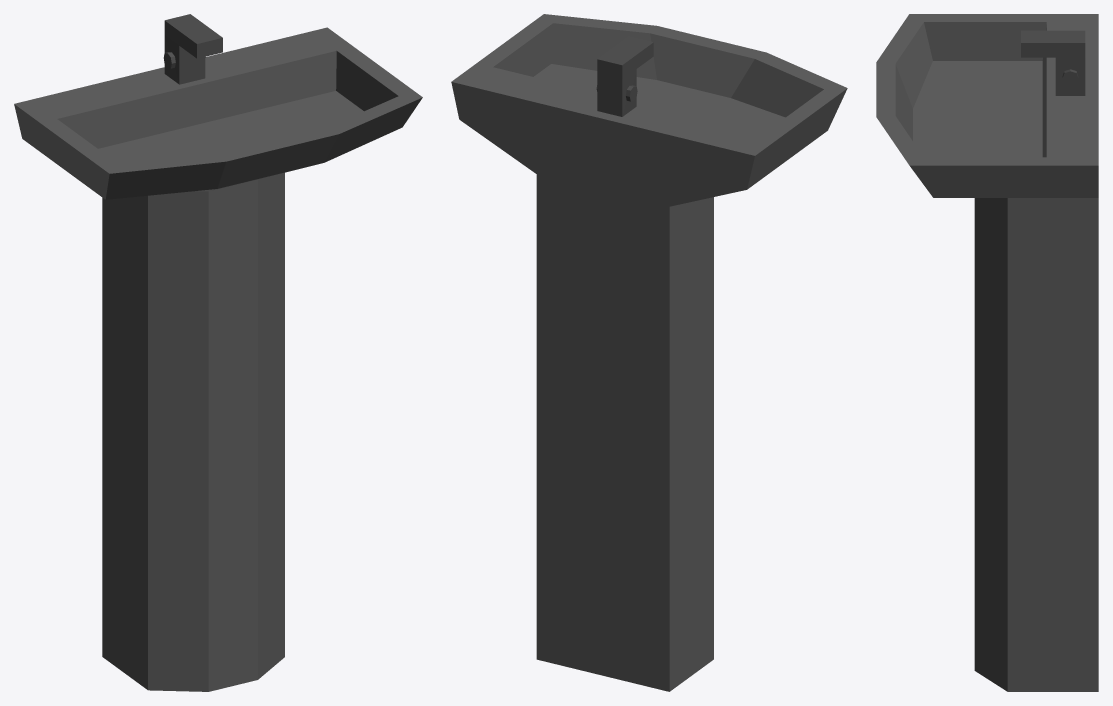
Rendered from Sink_01.fbx.
3 views of the same model, side by side, from view 1: azimuth 30°, elevation 25°; view 2: azimuth 150°, elevation 25°; view 3: azimuth 270°, elevation 25° (orthographic). The views are drawn at different scales.
Parts seen in each view (by area): view 1: Sink_01; view 2: Sink_01; view 3: Sink_01.
Part boxes in pixels (bbox=[...]): Sink_01: bbox=[14, 14, 422, 691]; Sink_01: bbox=[451, 14, 847, 691]; Sink_01: bbox=[876, 14, 1098, 691].
Size of the model in its own units: 52.13 by 99.82 by 32.35.
